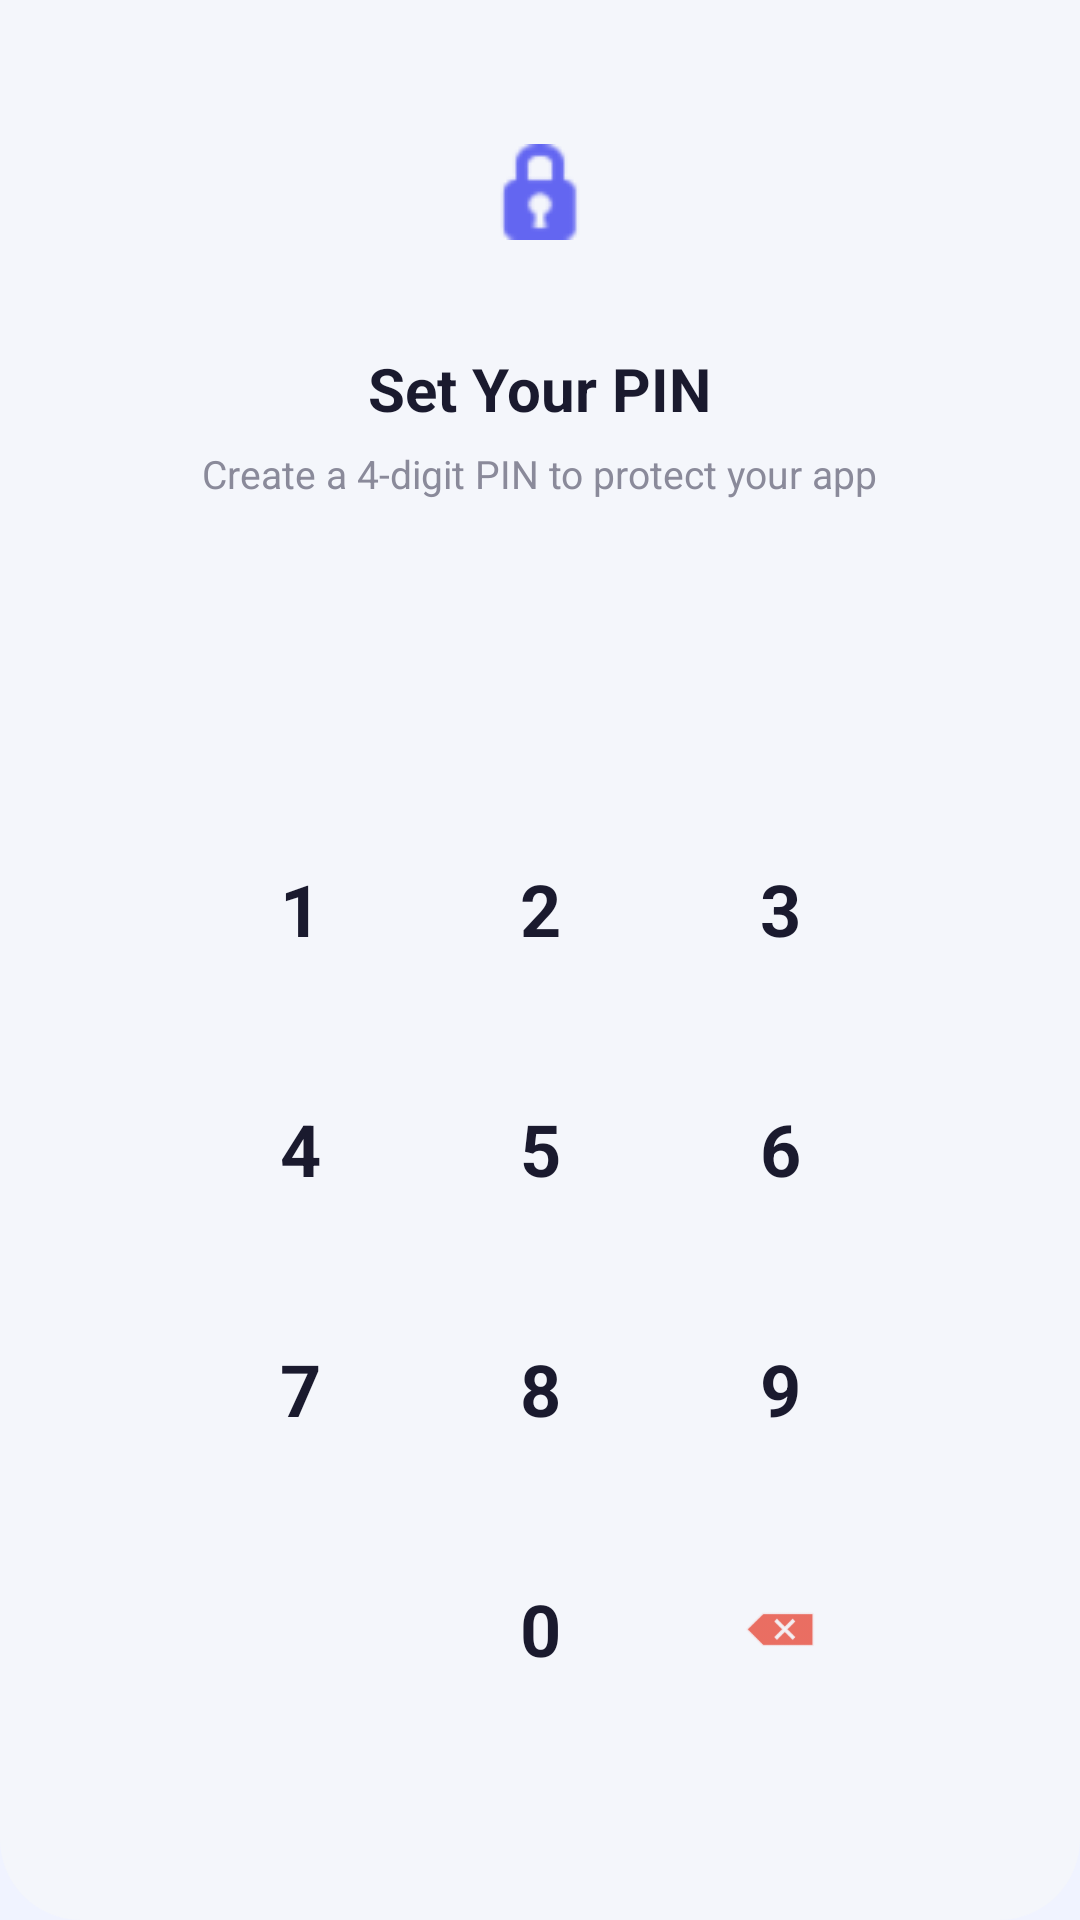

Named icons in this screenshot (1080 × 1920) and their centers, (x=x, y=y):
delete: (x=780, y=1630)
secure: (x=540, y=192)
